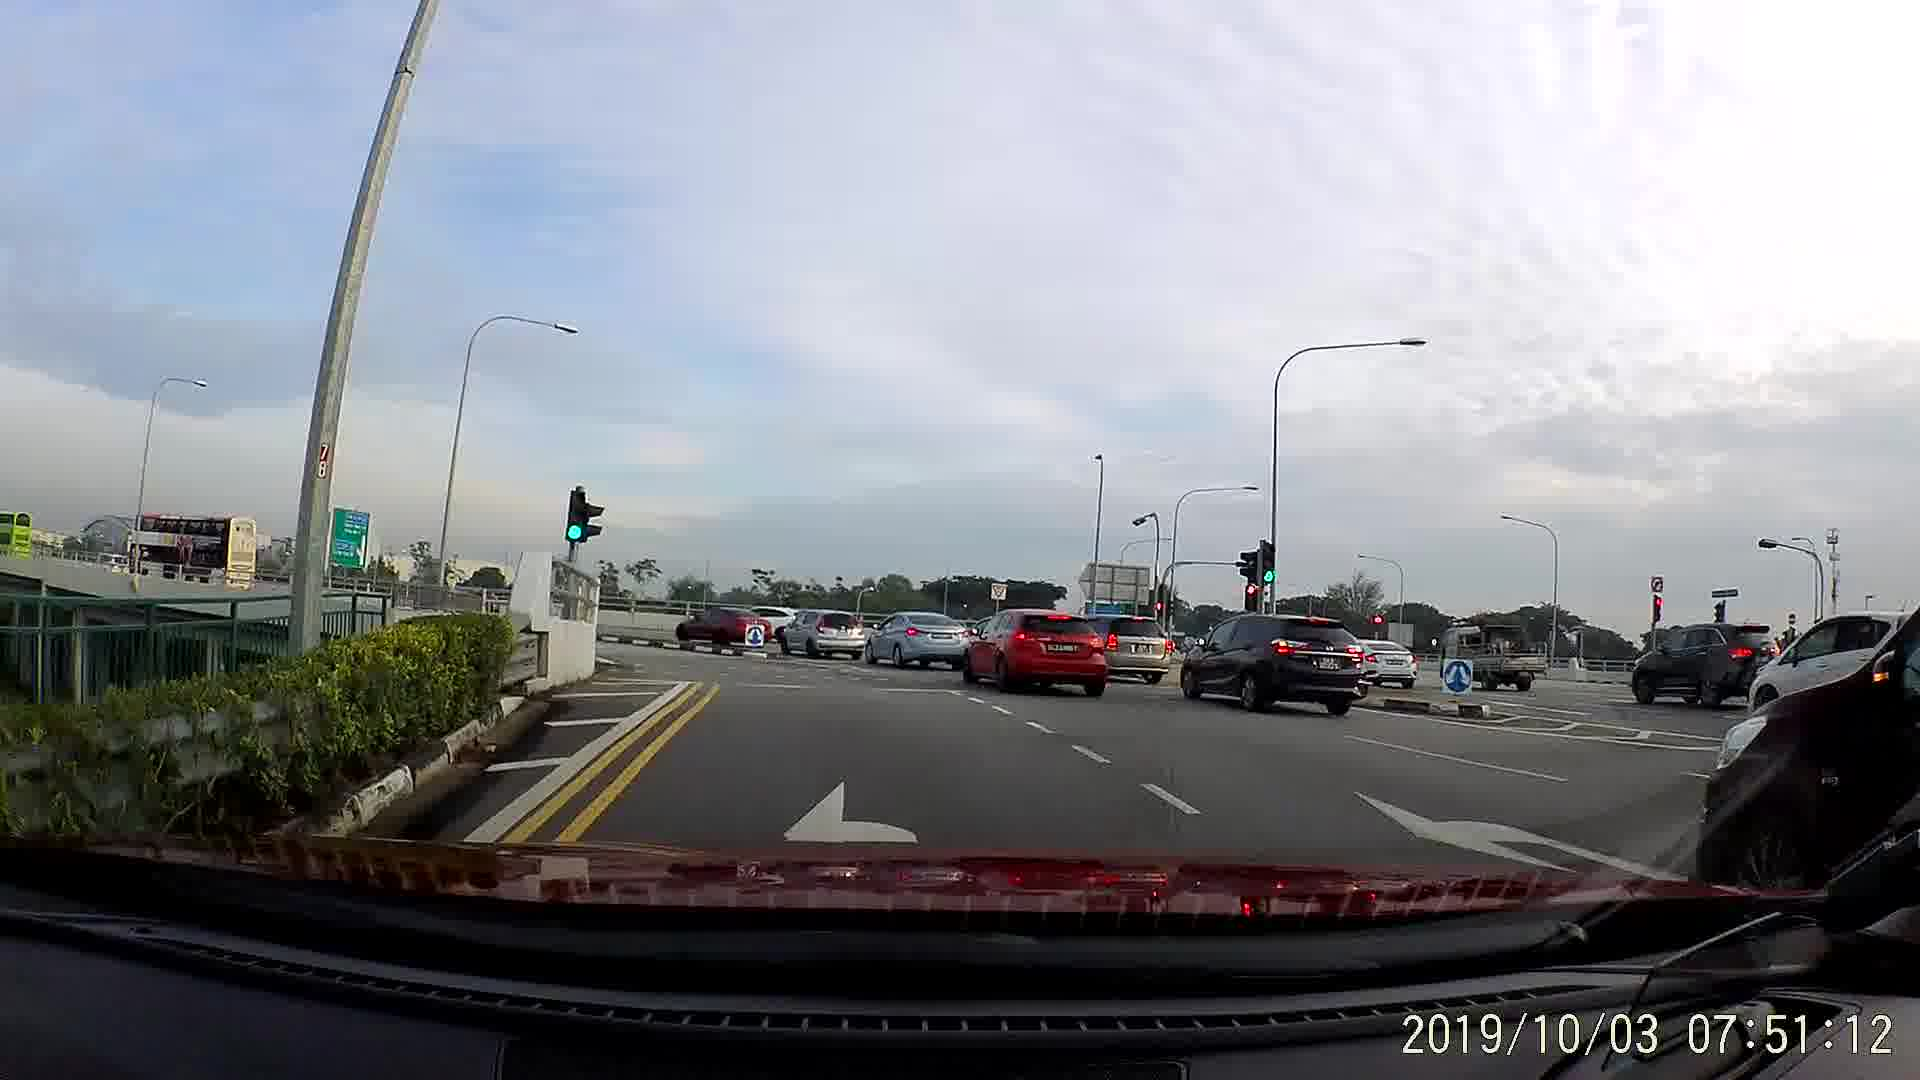bus: (124, 506, 256, 605)
car: (1175, 607, 1367, 717), (1625, 620, 1785, 712), (957, 603, 1113, 698), (876, 607, 971, 670), (674, 596, 777, 651), (785, 603, 866, 665)
